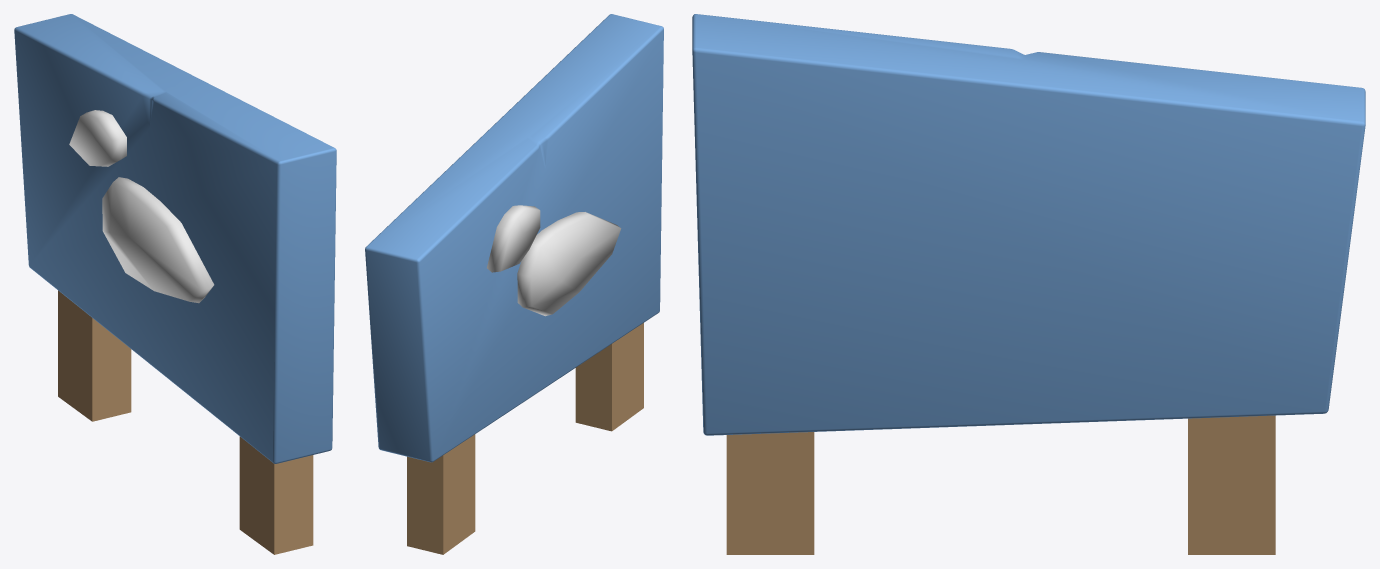
File: sign board.fbx
The picture shows the model from 3 angles, left to right: view 1: azimuth 30°, elevation 25°; view 2: azimuth 150°, elevation 25°; view 3: azimuth 270°, elevation 25°; orthographic projection. The views are drawn at different scales.
Parts seen in each view (by area): view 1: Cube.028; view 2: Cube.028; view 3: Cube.028.
Part boxes in pixels (bbox=[...]): Cube.028: bbox=[14, 14, 336, 554]; Cube.028: bbox=[365, 14, 663, 554]; Cube.028: bbox=[692, 14, 1365, 554].
Bounding box in the file's own units: 79.96 × 352 × 419.
